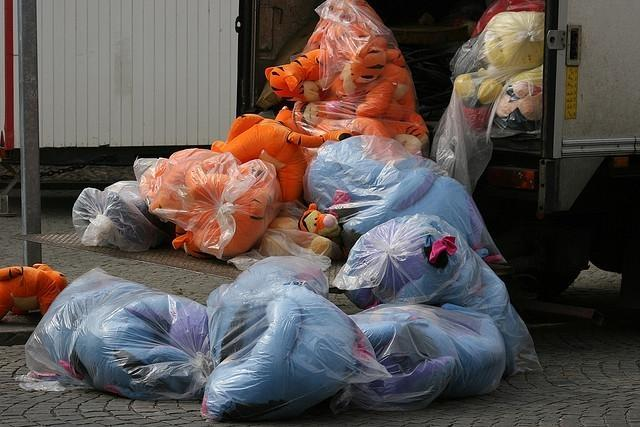truck: (237, 1, 640, 320)
